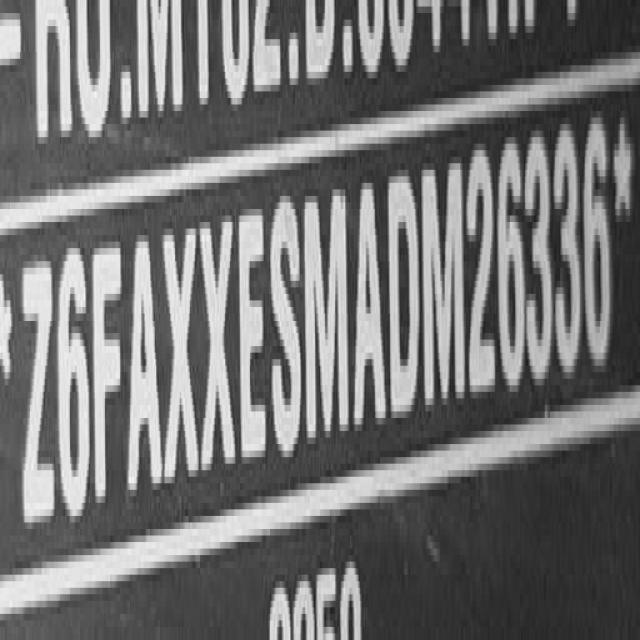2: (466, 134, 498, 408)
3: (553, 107, 580, 386), (528, 118, 554, 390)
6: (58, 235, 91, 527), (584, 99, 614, 375), (497, 136, 525, 402)
A: (128, 222, 163, 507), (354, 171, 386, 438)
D: (391, 163, 422, 426)
E: (241, 203, 270, 473)
F: (94, 231, 125, 517)
M: (304, 182, 350, 450), (421, 146, 463, 418)
S: (270, 194, 301, 463)
X: (162, 212, 202, 499), (203, 206, 238, 485)
Z: (21, 244, 54, 536)
